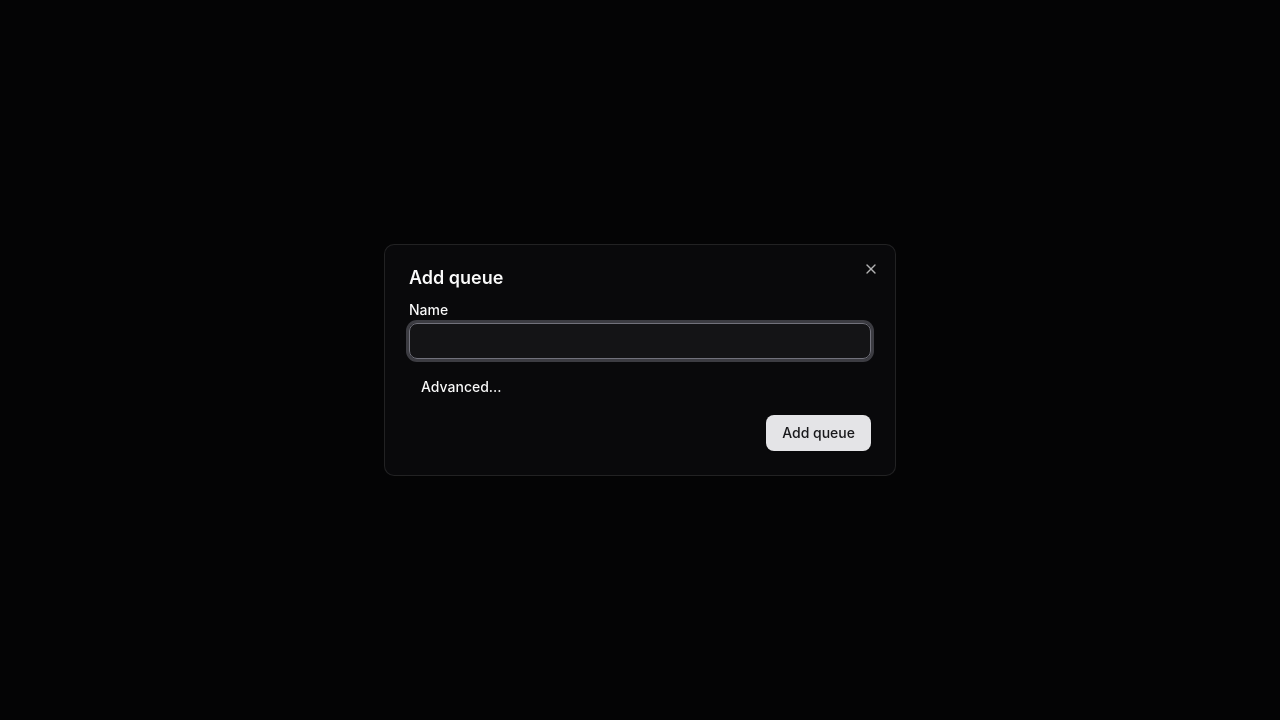
Test case: CreateEntityDialog › a failed Result renders the error alert and keeps the dialog open
Type "orders" into the field labelled "Name" at (640, 341), box [409,323,871,359]
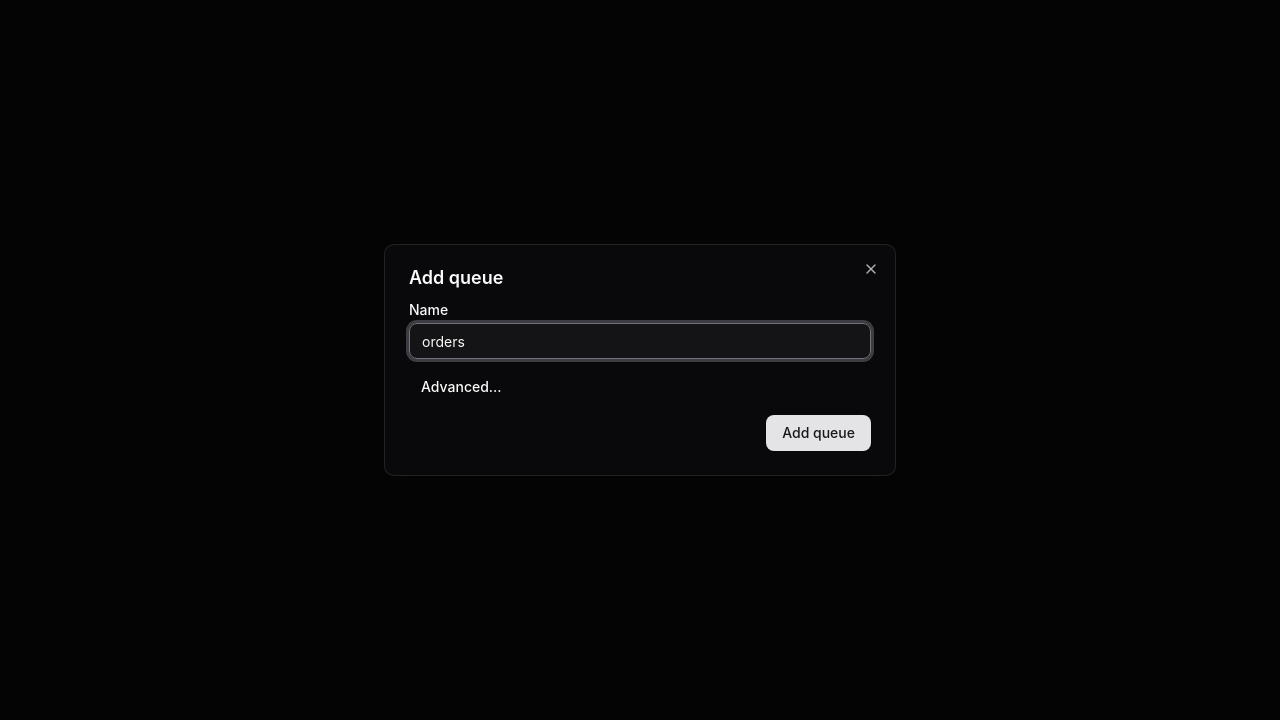
Submit the form "Add queue", box [409,303,871,451]
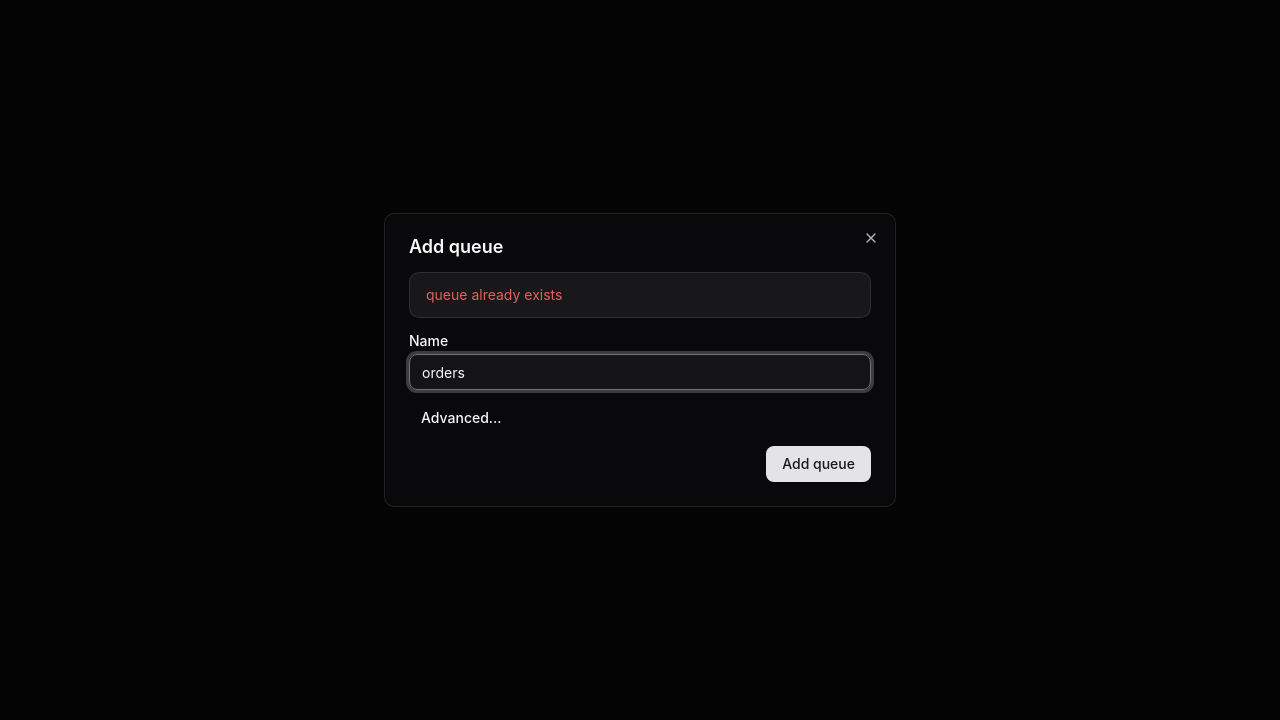
Check: the text "queue already exists" is shown, box [426,286,562,303]
